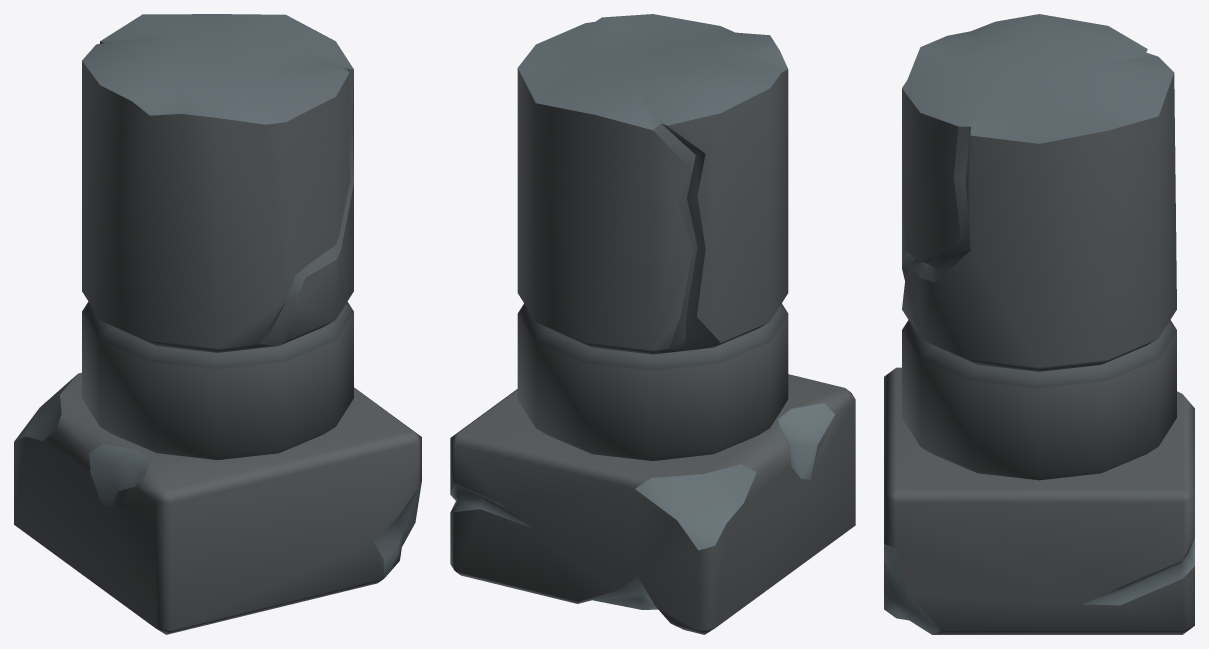
Rendered from column_001_001.glb.
The picture shows the model from 3 angles, left to right: view 1: azimuth 30°, elevation 25°; view 2: azimuth 150°, elevation 25°; view 3: azimuth 270°, elevation 25°; orthographic projection.
Visible parts, largest first — view 1: column_001.001; view 2: column_001.001; view 3: column_001.001.
Boxes of the visible parts, x1,y1,x2,y2 form: column_001.001: [14, 14, 421, 634]; column_001.001: [450, 14, 855, 634]; column_001.001: [884, 14, 1194, 634].
Size of the model in its own units: 3.8 by 6.83 by 3.8.
1 material, 1 textured.
